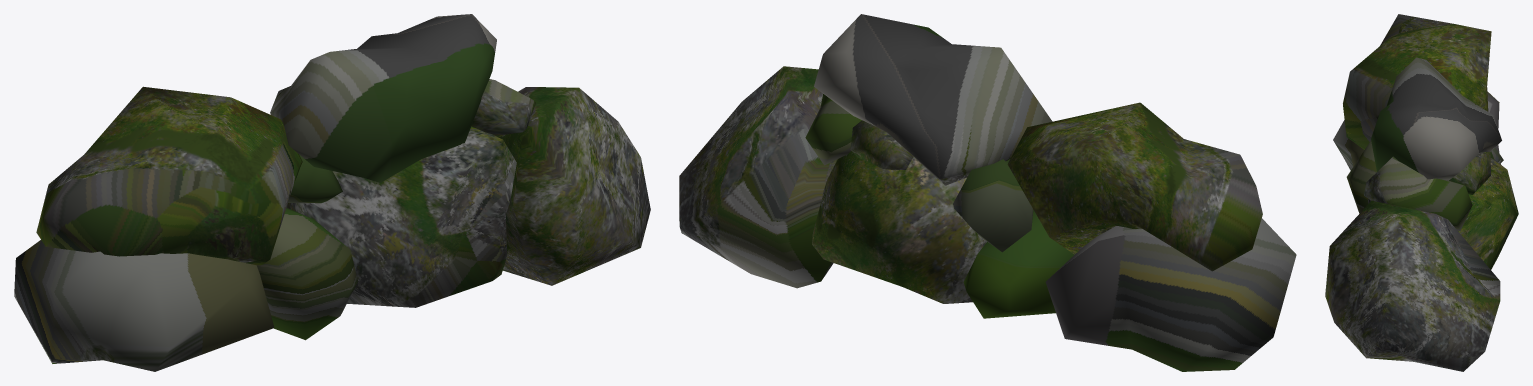
Rendered from rock.obj.
3 renders of one model, left to right at view 1: azimuth 30°, elevation 25°; view 2: azimuth 150°, elevation 25°; view 3: azimuth 270°, elevation 25°, orthographic. The views are drawn at different scales.
Visible parts, largest first — view 1: 8_lp_rock_0, 4_lp_rock_0, 9_lp_rock_0, 5_lp_rock_0, 1_lp_rock_0, 6_lp_rock_0, 2_lp_rock_0, 7_lp_rock_0; view 2: 8_lp_rock_0, 9_lp_rock_0, 4_lp_rock_0, 1_lp_rock_0, 5_lp_rock_0, 6_lp_rock_0, 7_lp_rock_0, 2_lp_rock_0, 3_lp_rock_0; view 3: 1_lp_rock_0, 4_lp_rock_0, 8_lp_rock_0, 2_lp_rock_0, 5_lp_rock_0, 6_lp_rock_0, 3_lp_rock_0, 9_lp_rock_0.
Boxes of the visible parts, x1,y1,x2,y2 form: 8_lp_rock_0: (36,86,302,265); 4_lp_rock_0: (270,14,496,182); 9_lp_rock_0: (14,240,274,371); 5_lp_rock_0: (286,126,516,307); 1_lp_rock_0: (497,87,650,285); 6_lp_rock_0: (257,208,358,340); 2_lp_rock_0: (471,79,535,136); 7_lp_rock_0: (288,154,342,203); 8_lp_rock_0: (1007,102,1262,271); 9_lp_rock_0: (1045,218,1296,371); 4_lp_rock_0: (814,14,1052,185); 1_lp_rock_0: (679,66,837,288); 5_lp_rock_0: (812,151,986,303); 6_lp_rock_0: (963,210,1074,318); 7_lp_rock_0: (953,159,1033,252); 2_lp_rock_0: (805,94,861,165); 3_lp_rock_0: (850,120,913,170); 1_lp_rock_0: (1325,200,1500,371); 4_lp_rock_0: (1371,57,1501,180); 8_lp_rock_0: (1343,14,1491,149); 2_lp_rock_0: (1364,156,1472,230); 5_lp_rock_0: (1368,157,1518,269); 6_lp_rock_0: (1346,140,1376,213); 3_lp_rock_0: (1449,151,1490,194); 9_lp_rock_0: (1333,91,1500,170).
Size of the model in its own units: 449 by 195 by 156.
